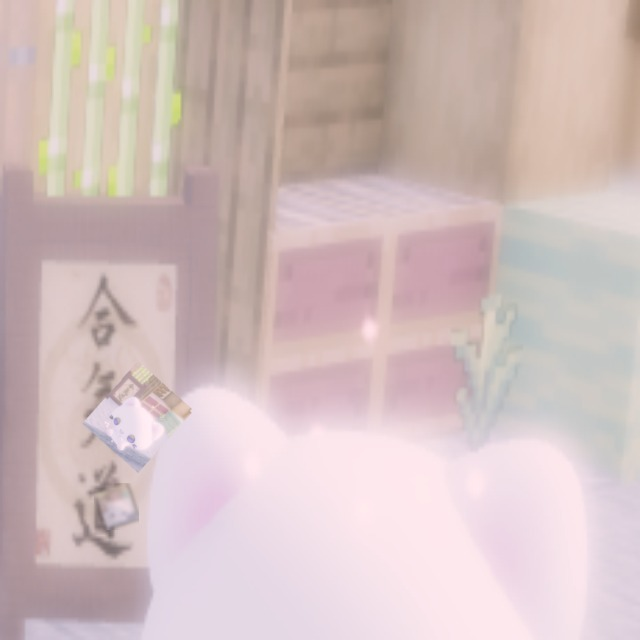urso_branco: (82, 361, 194, 473), (94, 483, 139, 530)
